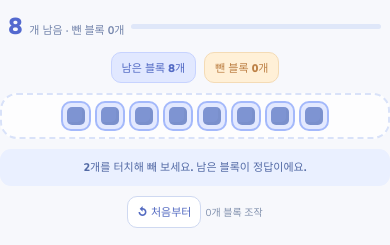
학생이 조작하면 실제 수학 모형의 값과 그림이 변한다 › 뺄셈은 블록을 실제로 제거하고 남은 값을 표시한다
The image size is (390, 245).
Click the button named "1번째 블록 빼기" at (76, 116), box [61,101,91,131]
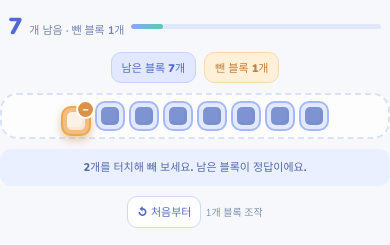
Click the button named "2번째 블록 빼기" at (110, 116), box [95,101,125,131]
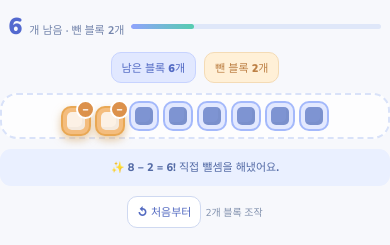
Check: the text "개 남음 · 뺀 블록 2개" is shown, box [29,24,124,38]
